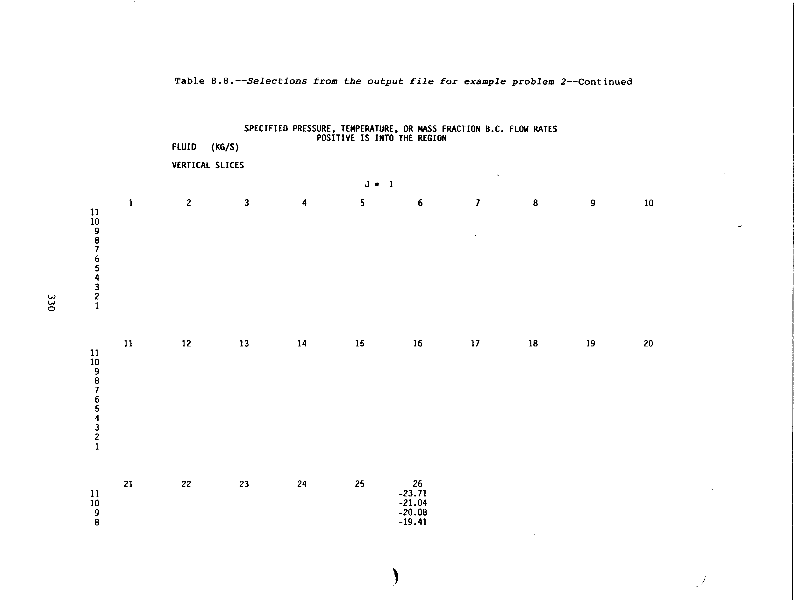table: (83, 116, 699, 551)
